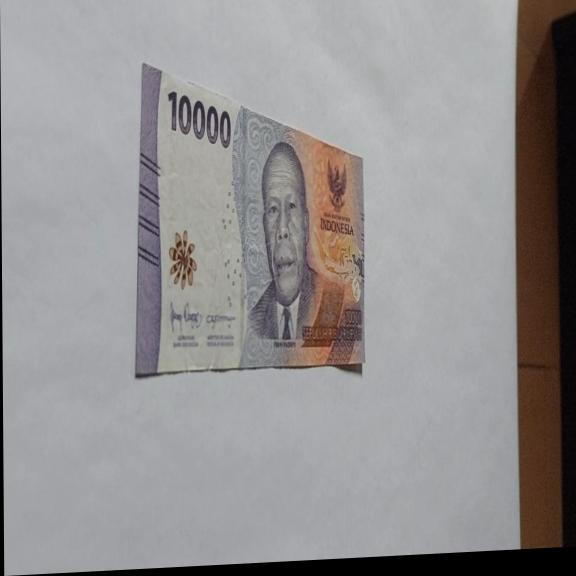Kertas: (133, 49, 367, 382), (166, 85, 232, 152)
